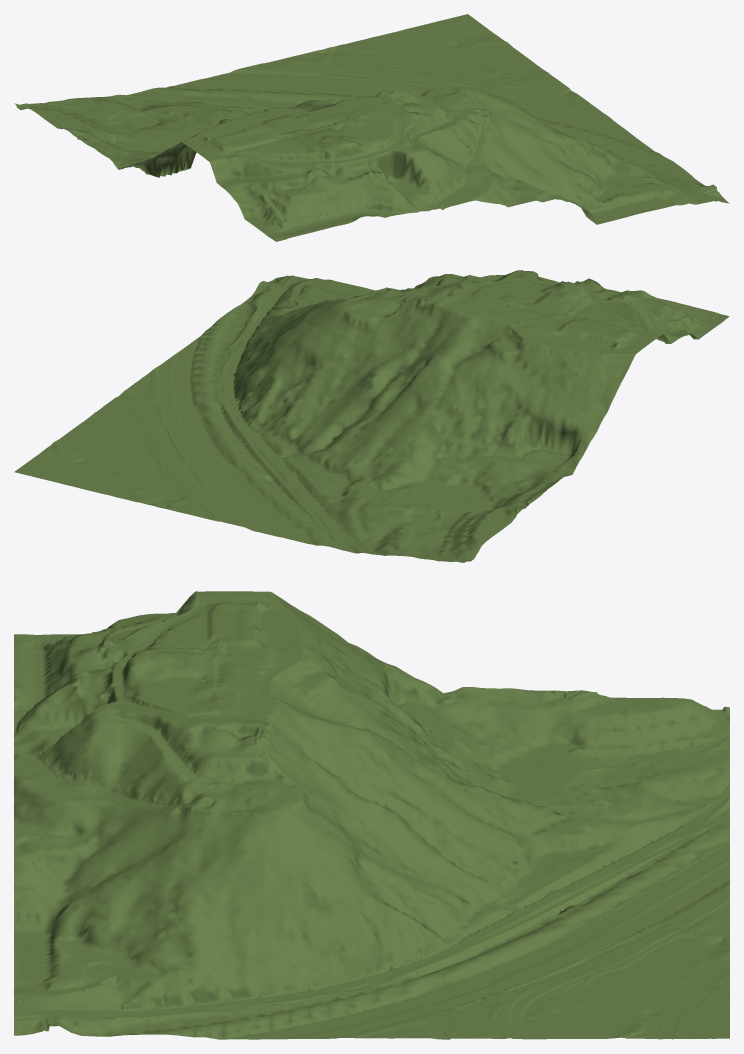
Rendered from terrain_2_2.glb.
The picture shows the model from 3 angles, top to bottom: view 1: azimuth 30°, elevation 25°; view 2: azimuth 150°, elevation 25°; view 3: azimuth 270°, elevation 25°; orthographic projection. The views are drawn at different scales.
Visible parts, largest first — view 1: terrain_2_2; view 2: terrain_2_2; view 3: terrain_2_2.
Boxes of the visible parts, x1,y1,x2,y2 form: terrain_2_2: (14,14,729,241); terrain_2_2: (14,270,729,562); terrain_2_2: (14,591,729,1039).
Bounding box in the file's own units: 600 × 145 × 600.
